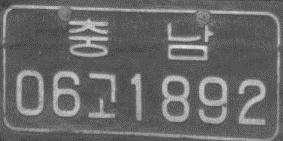0: (15, 69, 45, 116)
1: (123, 72, 152, 121)
2: (237, 78, 266, 125)
6: (51, 69, 81, 117)
8: (160, 74, 189, 123)
9: (197, 76, 229, 124)
고: (86, 71, 116, 119)
충남_D: (66, 18, 213, 61)
